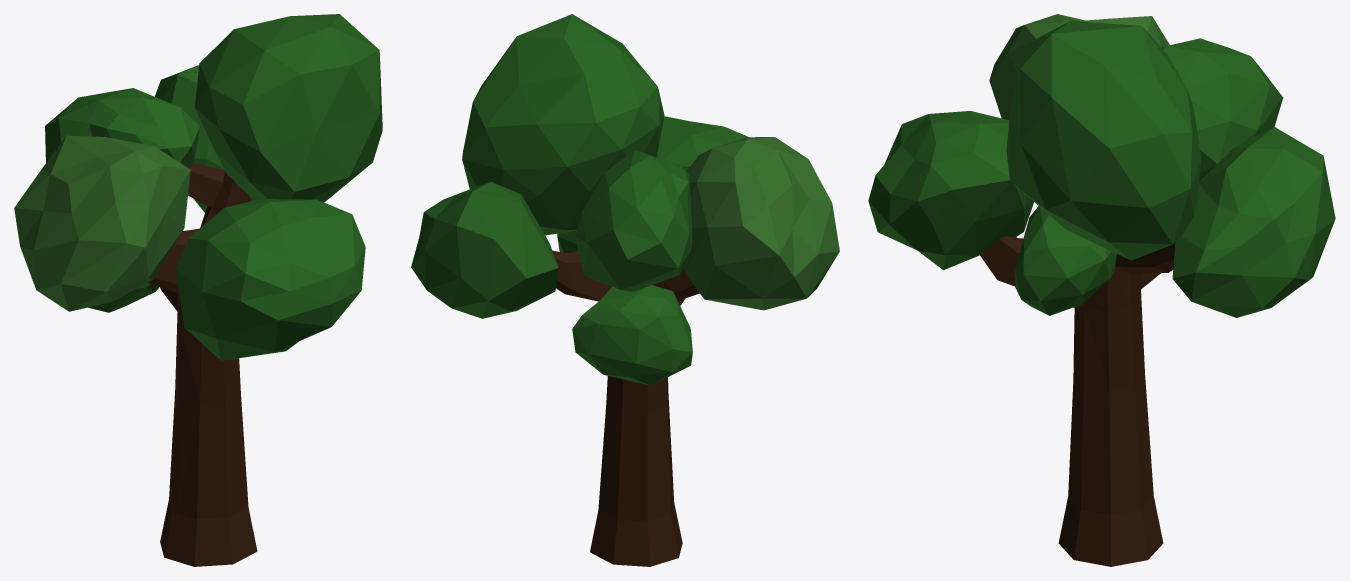
Rendered from Tree1_fract.FBX.
3 renders of one model, left to right at view 1: azimuth 30°, elevation 25°; view 2: azimuth 150°, elevation 25°; view 3: azimuth 270°, elevation 25°, orthographic. The views are drawn at different scales.
Visible parts, largest first — view 1: OakTree4_Part_10, OakTree4_Part_2, OakTree4_Part_1, OakTree4_Part_9, OakTree4_Part_6, OakTree4_Part_7, OakTree4_Part_8, OakTree4_Part_5, OakTree4_Part_3; view 2: OakTree4_Part_10, OakTree4_Part_5, OakTree4_Part_6, OakTree4_Part_4, OakTree4_Part_1, OakTree4_Part_9, OakTree4_Part_8, OakTree4_Part_7, OakTree4_Part_2, OakTree4_Part_3; view 3: OakTree4_Part_4, OakTree4_Part_2, OakTree4_Part_8, OakTree4_Part_9, OakTree4_Part_6, OakTree4_Part_7, OakTree4_Part_1, OakTree4_Part_10, OakTree4_Part_5.
Boxes of the visible parts, x1=… form: OakTree4_Part_10: x1=14, y1=98, x2=226, y2=357; OakTree4_Part_2: x1=208, y1=90, x2=378, y2=358; OakTree4_Part_1: x1=178, y1=15, x2=341, y2=154; OakTree4_Part_9: x1=165, y1=317, x2=245, y2=516; OakTree4_Part_6: x1=117, y1=65, x2=231, y2=321; OakTree4_Part_7: x1=160, y1=472, x2=257, y2=566; OakTree4_Part_8: x1=315, y1=14, x2=382, y2=152; OakTree4_Part_5: x1=45, y1=91, x2=154, y2=312; OakTree4_Part_3: x1=210, y1=66, x2=347, y2=185; OakTree4_Part_10: x1=656, y1=137, x2=839, y2=310; OakTree4_Part_5: x1=586, y1=167, x2=692, y2=385; OakTree4_Part_6: x1=477, y1=149, x2=689, y2=365; OakTree4_Part_4: x1=411, y1=142, x2=598, y2=318; OakTree4_Part_1: x1=536, y1=14, x2=663, y2=158; OakTree4_Part_9: x1=599, y1=298, x2=685, y2=539; OakTree4_Part_8: x1=464, y1=21, x2=553, y2=156; OakTree4_Part_7: x1=590, y1=489, x2=682, y2=566; OakTree4_Part_2: x1=649, y1=111, x2=748, y2=171; OakTree4_Part_3: x1=513, y1=95, x2=651, y2=172; OakTree4_Part_4: x1=1032, y1=135, x2=1335, y2=317; OakTree4_Part_2: x1=868, y1=83, x2=1085, y2=307; OakTree4_Part_8: x1=1017, y1=44, x2=1197, y2=232; OakTree4_Part_9: x1=996, y1=278, x2=1156, y2=508; OakTree4_Part_6: x1=1122, y1=42, x2=1328, y2=302; OakTree4_Part_7: x1=1058, y1=462, x2=1163, y2=566; OakTree4_Part_1: x1=1022, y1=21, x2=1183, y2=82; OakTree4_Part_10: x1=989, y1=14, x2=1230, y2=119; OakTree4_Part_5: x1=1183, y1=40, x2=1283, y2=133.
Size of the model in its own units: 1218 by 1691 by 1280.
